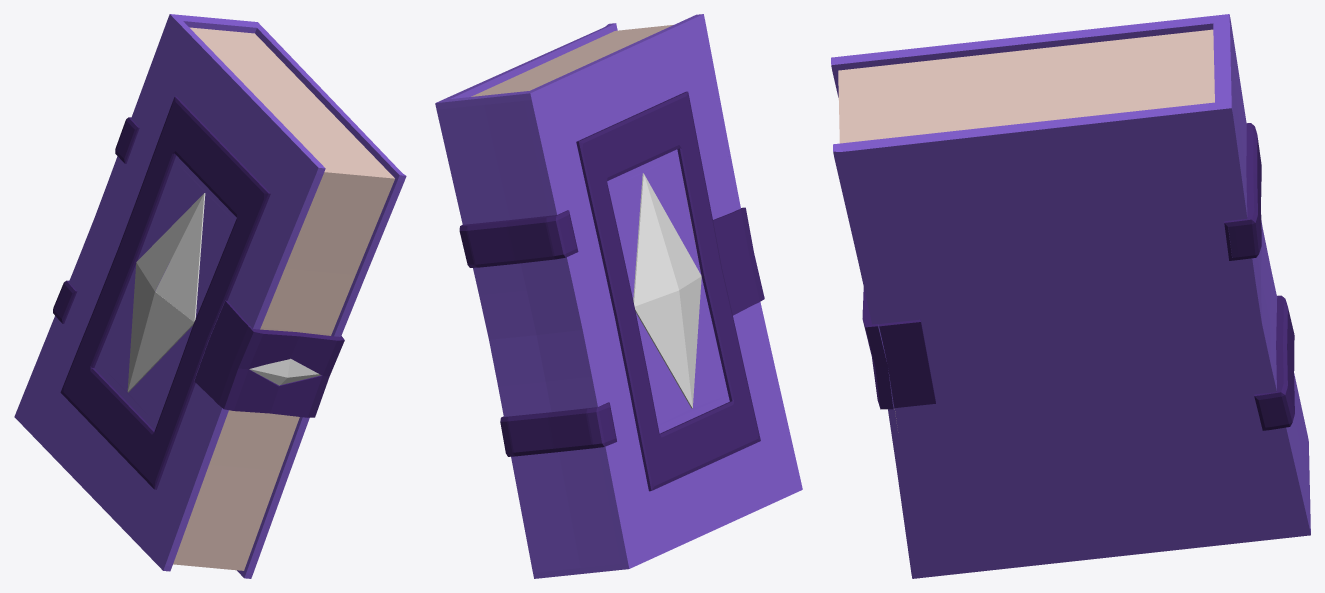
File: potionbook.fbx
The picture shows the model from 3 angles, left to right: view 1: azimuth 30°, elevation 25°; view 2: azimuth 150°, elevation 25°; view 3: azimuth 270°, elevation 25°; orthographic projection. The views are drawn at different scales.
Visible parts, largest first — view 1: Cube; view 2: Cube; view 3: Cube.
Boxes of the visible parts, bbox=[...] form: Cube: bbox=[14, 14, 406, 578]; Cube: bbox=[435, 14, 802, 578]; Cube: bbox=[831, 14, 1310, 578].
Bounding box in the file's own units: 113 × 227 × 167.
